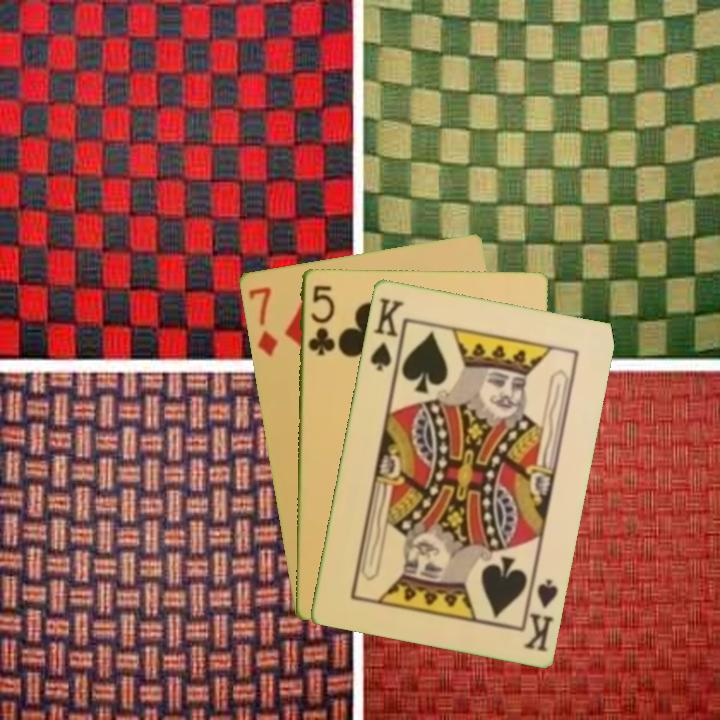5c: (304, 281, 337, 358)
7d: (244, 283, 280, 359)
Ks: (519, 570, 561, 654), (366, 293, 406, 376)
